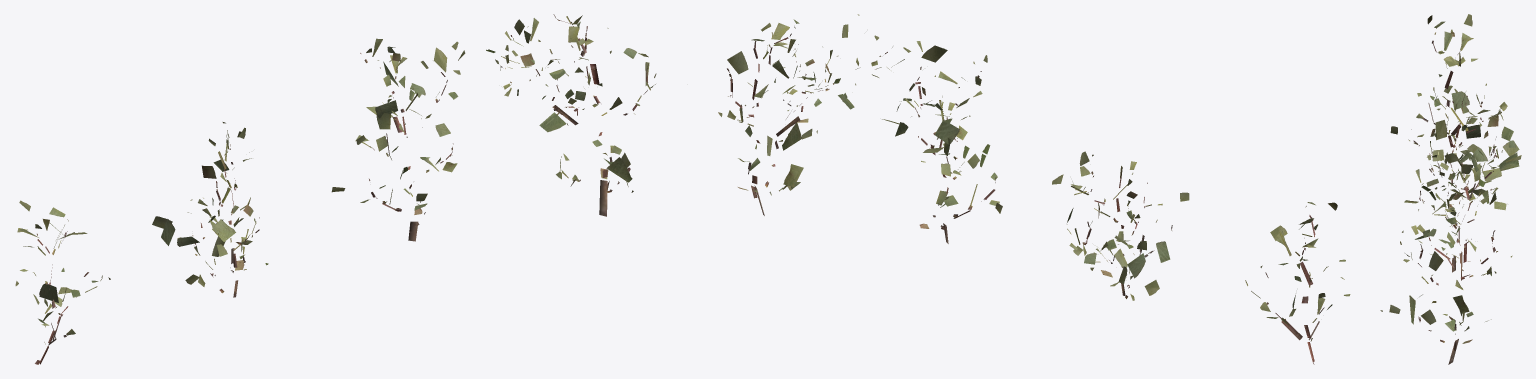
The model's file is shrub_04.glb.
The picture shows the model from 3 angles, left to right: view 1: azimuth 30°, elevation 25°; view 2: azimuth 150°, elevation 25°; view 3: azimuth 270°, elevation 25°; orthographic projection. The views are drawn at different scales.
Visible parts, largest first — view 1: shrub_04 (×2); view 2: shrub_04 (×2); view 3: shrub_04 (×2).
Part boxes in pixels (<box>): shrub_04 (×2): <box>15,14,656,364</box>; shrub_04 (×2): <box>718,14,1350,364</box>; shrub_04 (×2): <box>1380,14,1521,364</box>.
Size of the model in its own units: 0.5727 by 0.2022 by 0.1349.
Materials: 1 (1 with a texture image).
